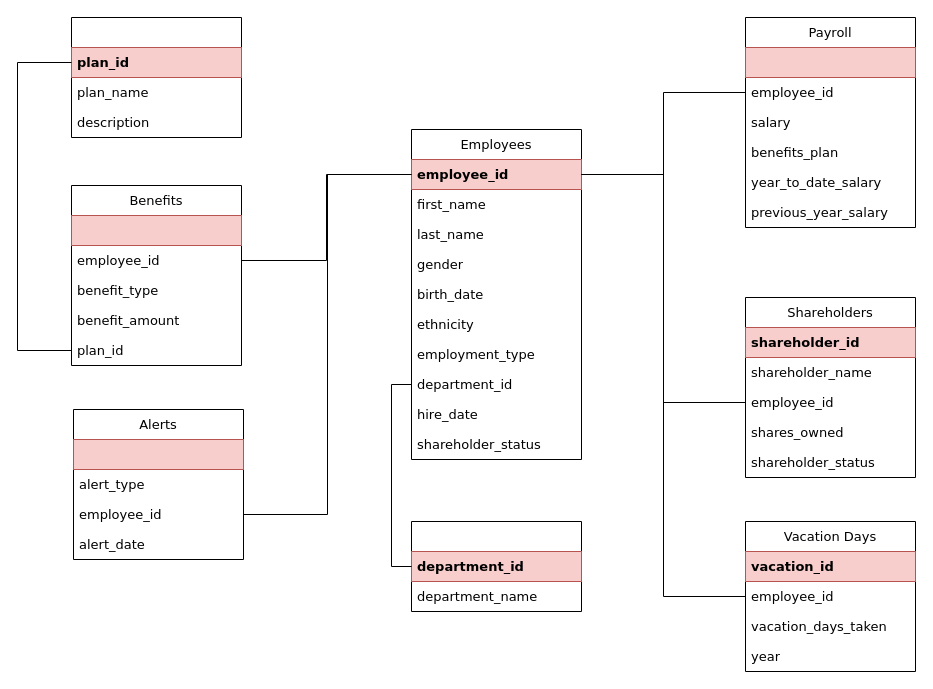
This 933x689 diagram has some shape labels left out. Here are the shapes that lost their labels. From the top down, the box of each, then its label:
(70, 16, 242, 138): Benefits Plans
(744, 46, 916, 78): payroll_id
(70, 214, 242, 246): benefit_id
(72, 438, 244, 470): alert_id
(410, 520, 582, 612): Departments
